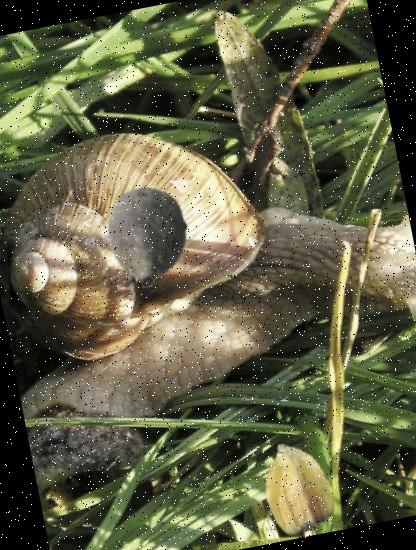Beetroot: (88, 176, 208, 296)
Physalis: (241, 431, 350, 540)
